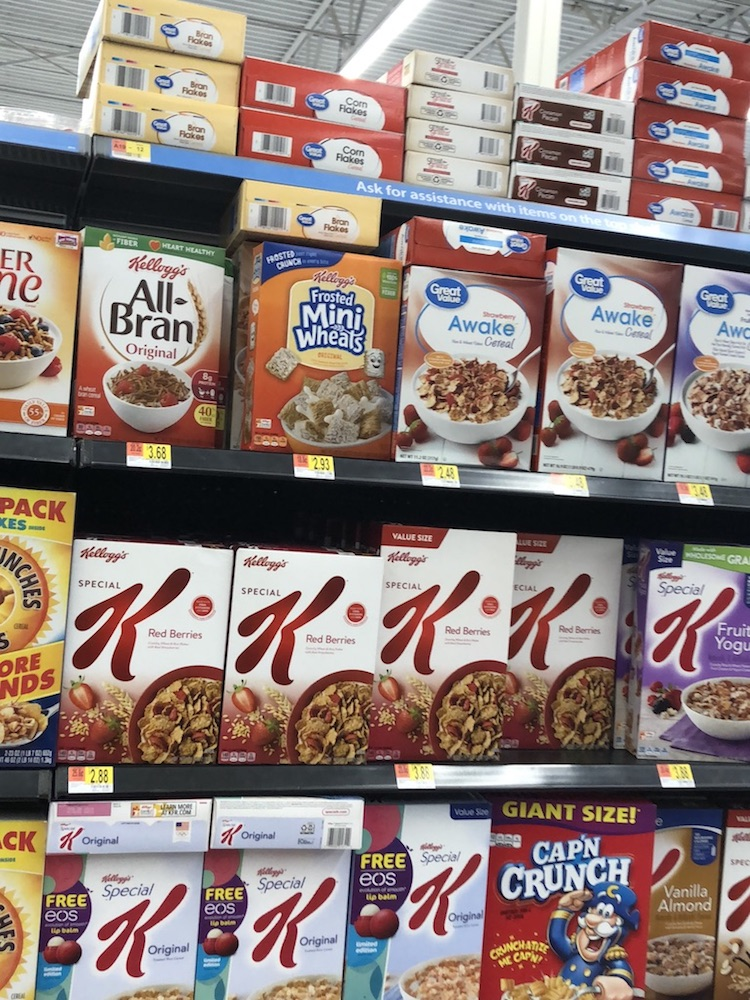Frosted Mini Original -9295869: (242, 240, 411, 459)
